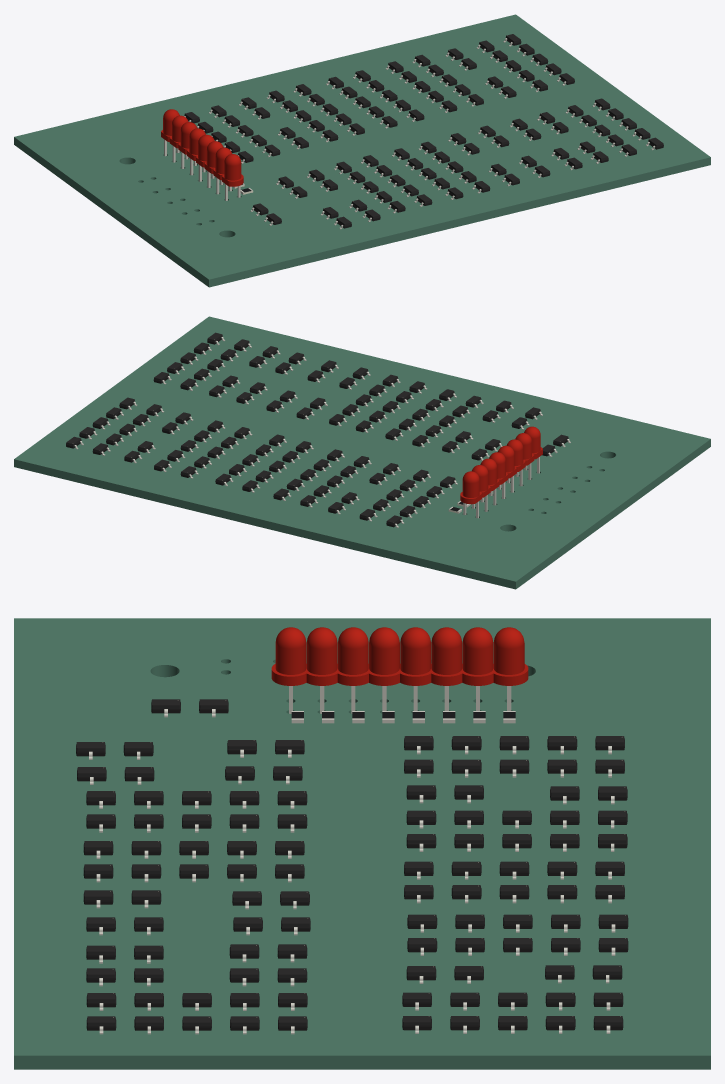
File: led_panel_1.glb
3 renders of one model, top to bottom at view 1: azimuth 30°, elevation 25°; view 2: azimuth 150°, elevation 25°; view 3: azimuth 270°, elevation 25°, orthographic. The views are drawn at different scales.
Parts seen in each view (by area): view 1: =>[0:1:1:5], D108, D107; view 2: =>[0:1:1:5], D101, D103; view 3: =>[0:1:1:5], D101, D108, D107, D103, D106, D104, D102, D105.
Boxes of the visible parts, bbox=[...] form: =>[0:1:1:5]: bbox=[14, 14, 710, 287]; D108: bbox=[222, 154, 243, 200]; D107: bbox=[213, 147, 232, 194]; =>[0:1:1:5]: bbox=[14, 316, 710, 589]; D101: bbox=[460, 471, 481, 518]; D103: bbox=[480, 458, 499, 505]; =>[0:1:1:5]: bbox=[14, 618, 710, 1069]; D101: bbox=[491, 627, 528, 710]; D108: bbox=[271, 627, 306, 713]; D107: bbox=[304, 627, 339, 713]; D103: bbox=[429, 627, 464, 710]; D106: bbox=[337, 627, 370, 713]; D104: bbox=[398, 627, 431, 710]; D102: bbox=[461, 627, 493, 710]; D105: bbox=[368, 627, 400, 710].
Bounding box in the file's own units: 0.101 × 0.0108 × 0.068.
